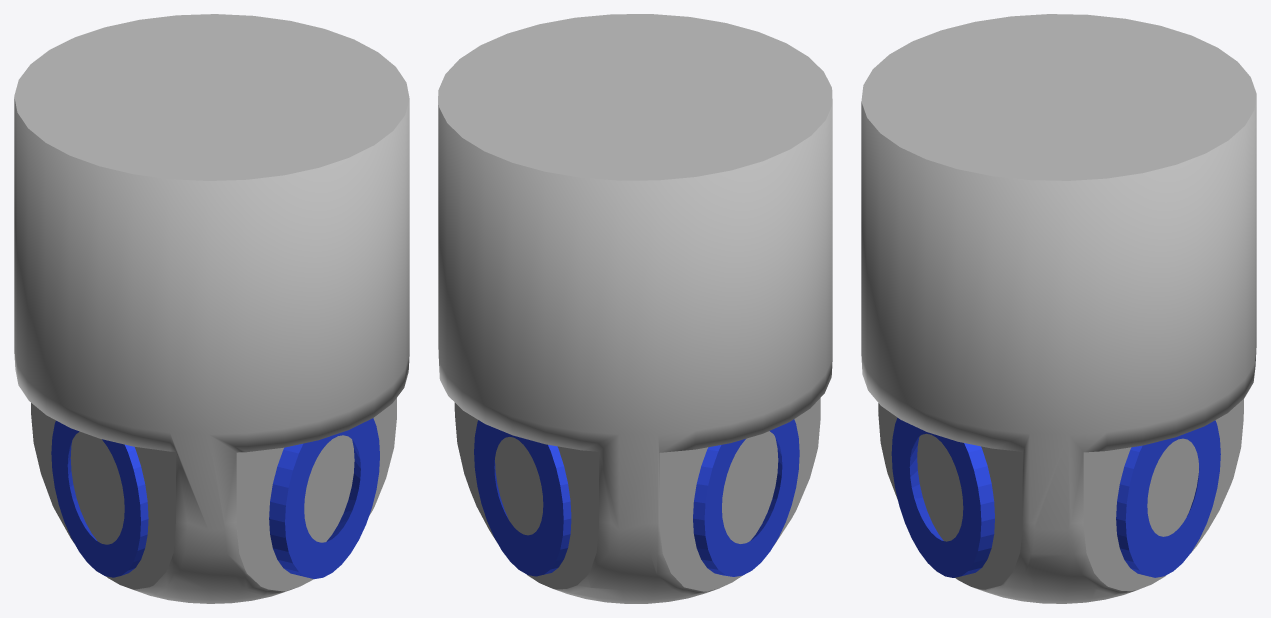
Rendered from offshore_wind_turbine_roter.glb.
The picture shows the model from 3 angles, left to right: view 1: azimuth 30°, elevation 25°; view 2: azimuth 150°, elevation 25°; view 3: azimuth 270°, elevation 25°; orthographic projection.
Visible parts, largest first — view 1: Sphere.001; view 2: Sphere.001; view 3: Sphere.001.
Boxes of the visible parts, x1,y1,x2,y2 form: Sphere.001: (14,14,409,603); Sphere.001: (438,14,832,603); Sphere.001: (861,14,1256,603).
Bounding box in the file's own units: 10.43 × 14.07 × 10.43.
